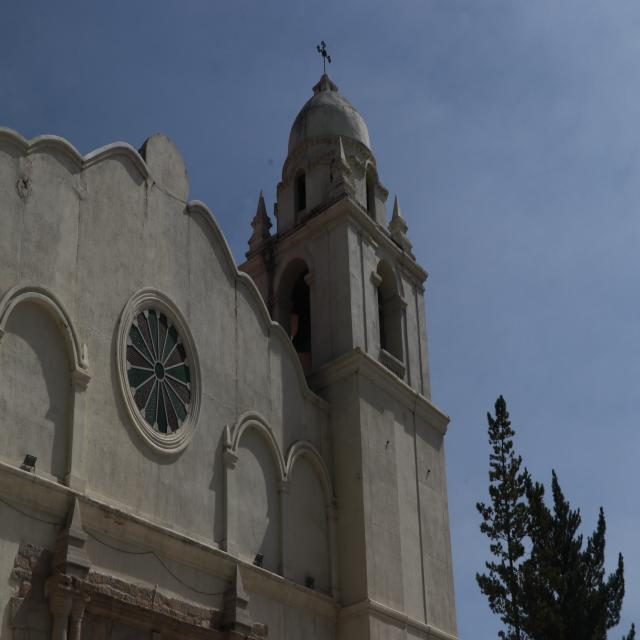CAMPANARIO: (244, 224, 483, 402)
CUPULA: (263, 87, 423, 226)
colonial-architecture-: (0, 36, 492, 640)
